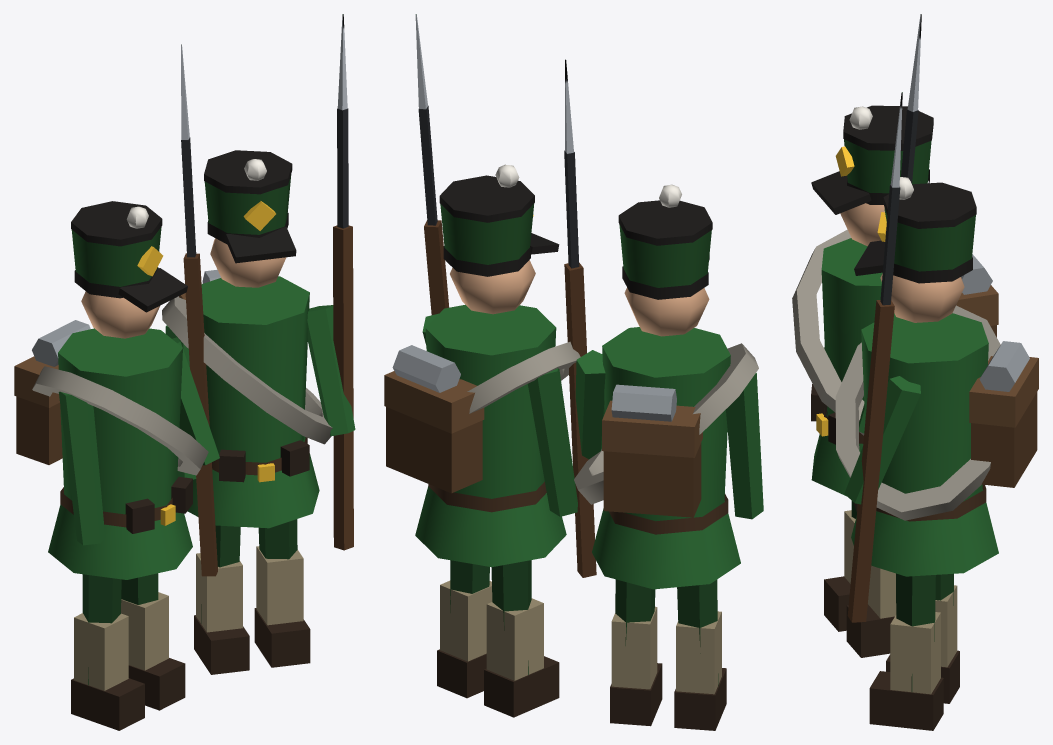
Rendered from sentry_dl5_green.glb.
3 views of the same model, side by side, from view 1: azimuth 30°, elevation 25°; view 2: azimuth 150°, elevation 25°; view 3: azimuth 270°, elevation 25° (orthographic). The views are drawn at different scales.
Parts seen in each view (by area): view 1: sentry_dl5_green; view 2: sentry_dl5_green; view 3: sentry_dl5_green.
Boxes of the visible parts, <box> form: sentry_dl5_green: <box>14,14,355,730</box>; sentry_dl5_green: <box>384,14,763,730</box>; sentry_dl5_green: <box>792,14,1038,730</box>.
Size of the model in its own units: 0.2701 by 0.5225 by 0.178.
1 material, 1 textured.
